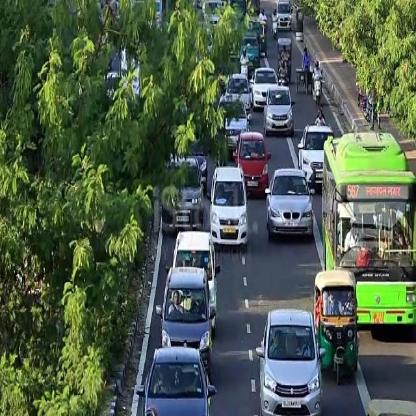auto-rikshaw: (313, 266, 359, 384)
bike: (310, 68, 324, 104), (270, 12, 278, 38)
bus: (321, 129, 415, 330)
car: (254, 307, 326, 414), (135, 344, 217, 414), (156, 264, 214, 350), (263, 165, 315, 243), (208, 162, 250, 252), (232, 128, 272, 198), (260, 82, 296, 140)
